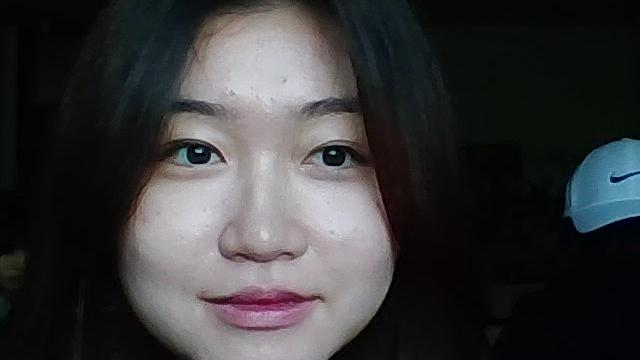eye: (187, 143, 211, 165), (323, 146, 346, 167)
iris: (300, 146, 367, 170), (160, 142, 229, 164)
